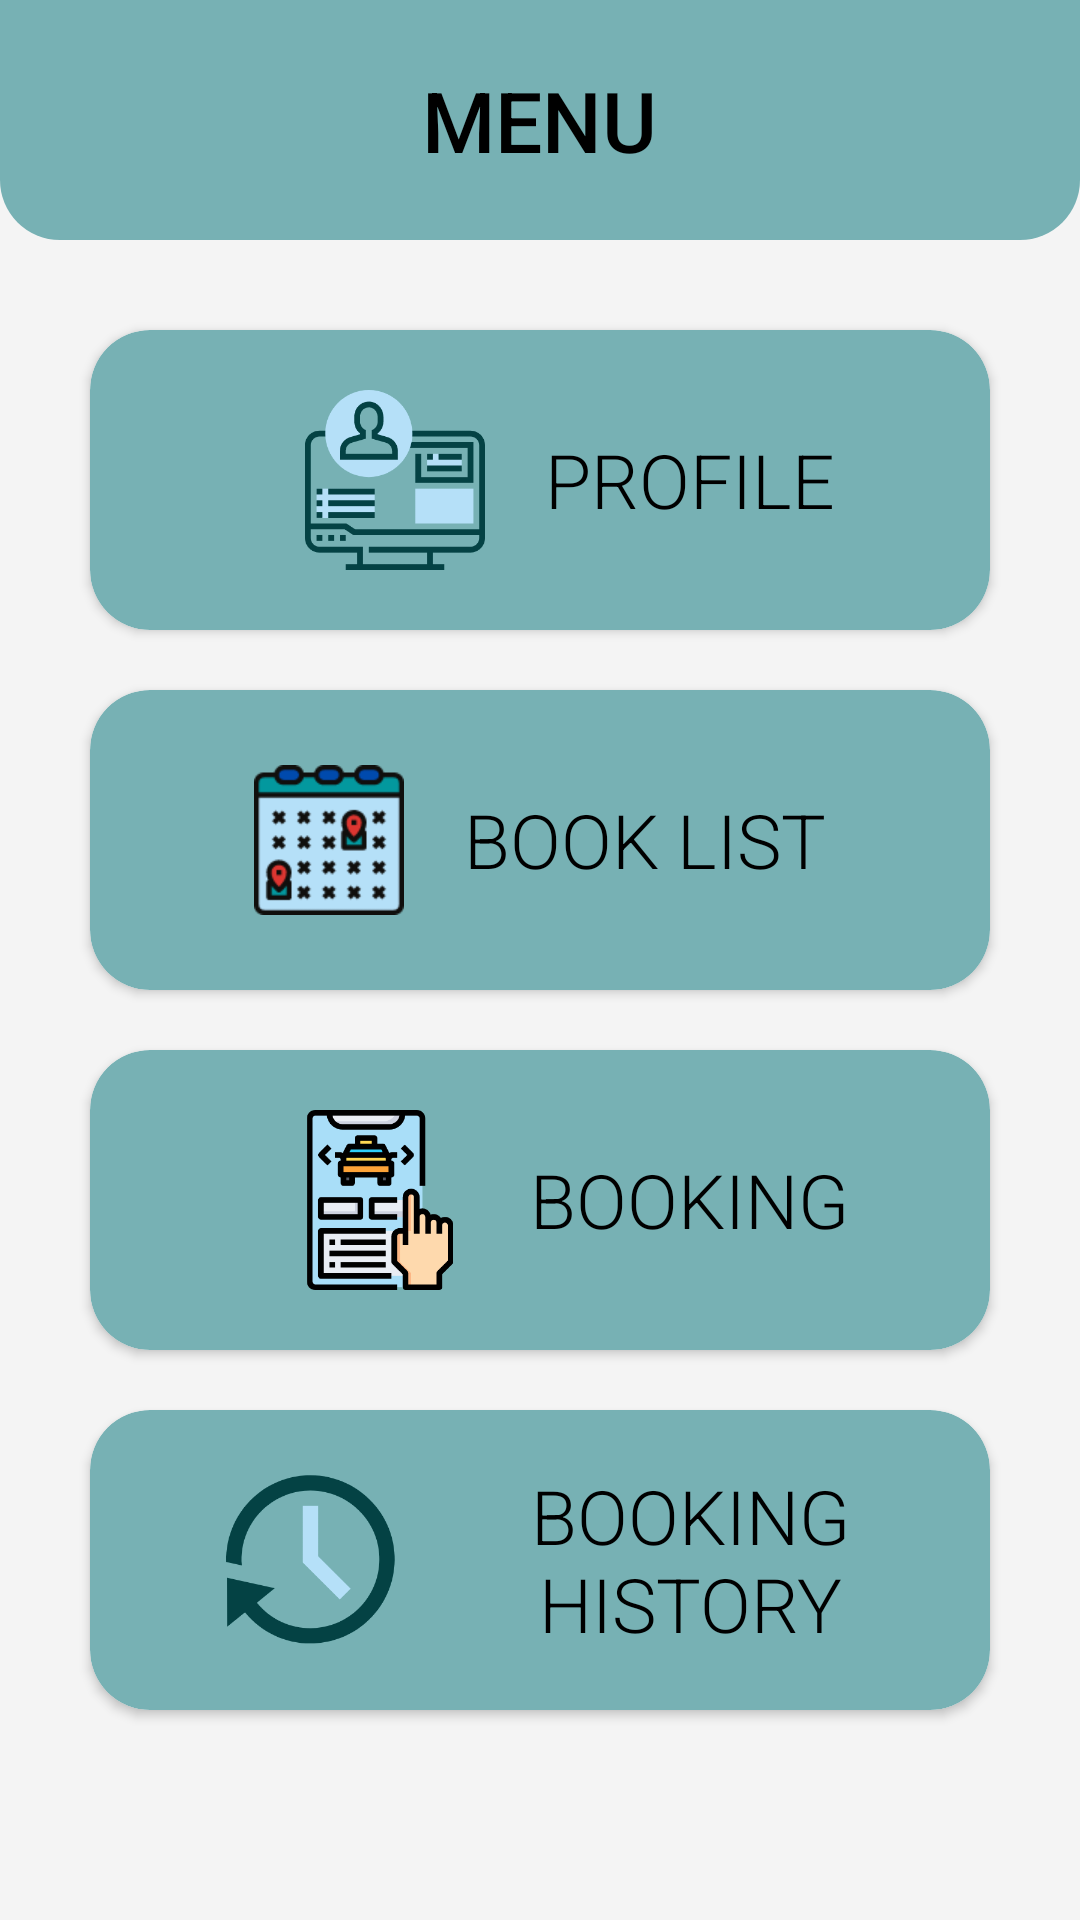

Icons on this 1080*1920 Android screen, each with the point to tap as point (x, y):
historys: point (310, 1559)
